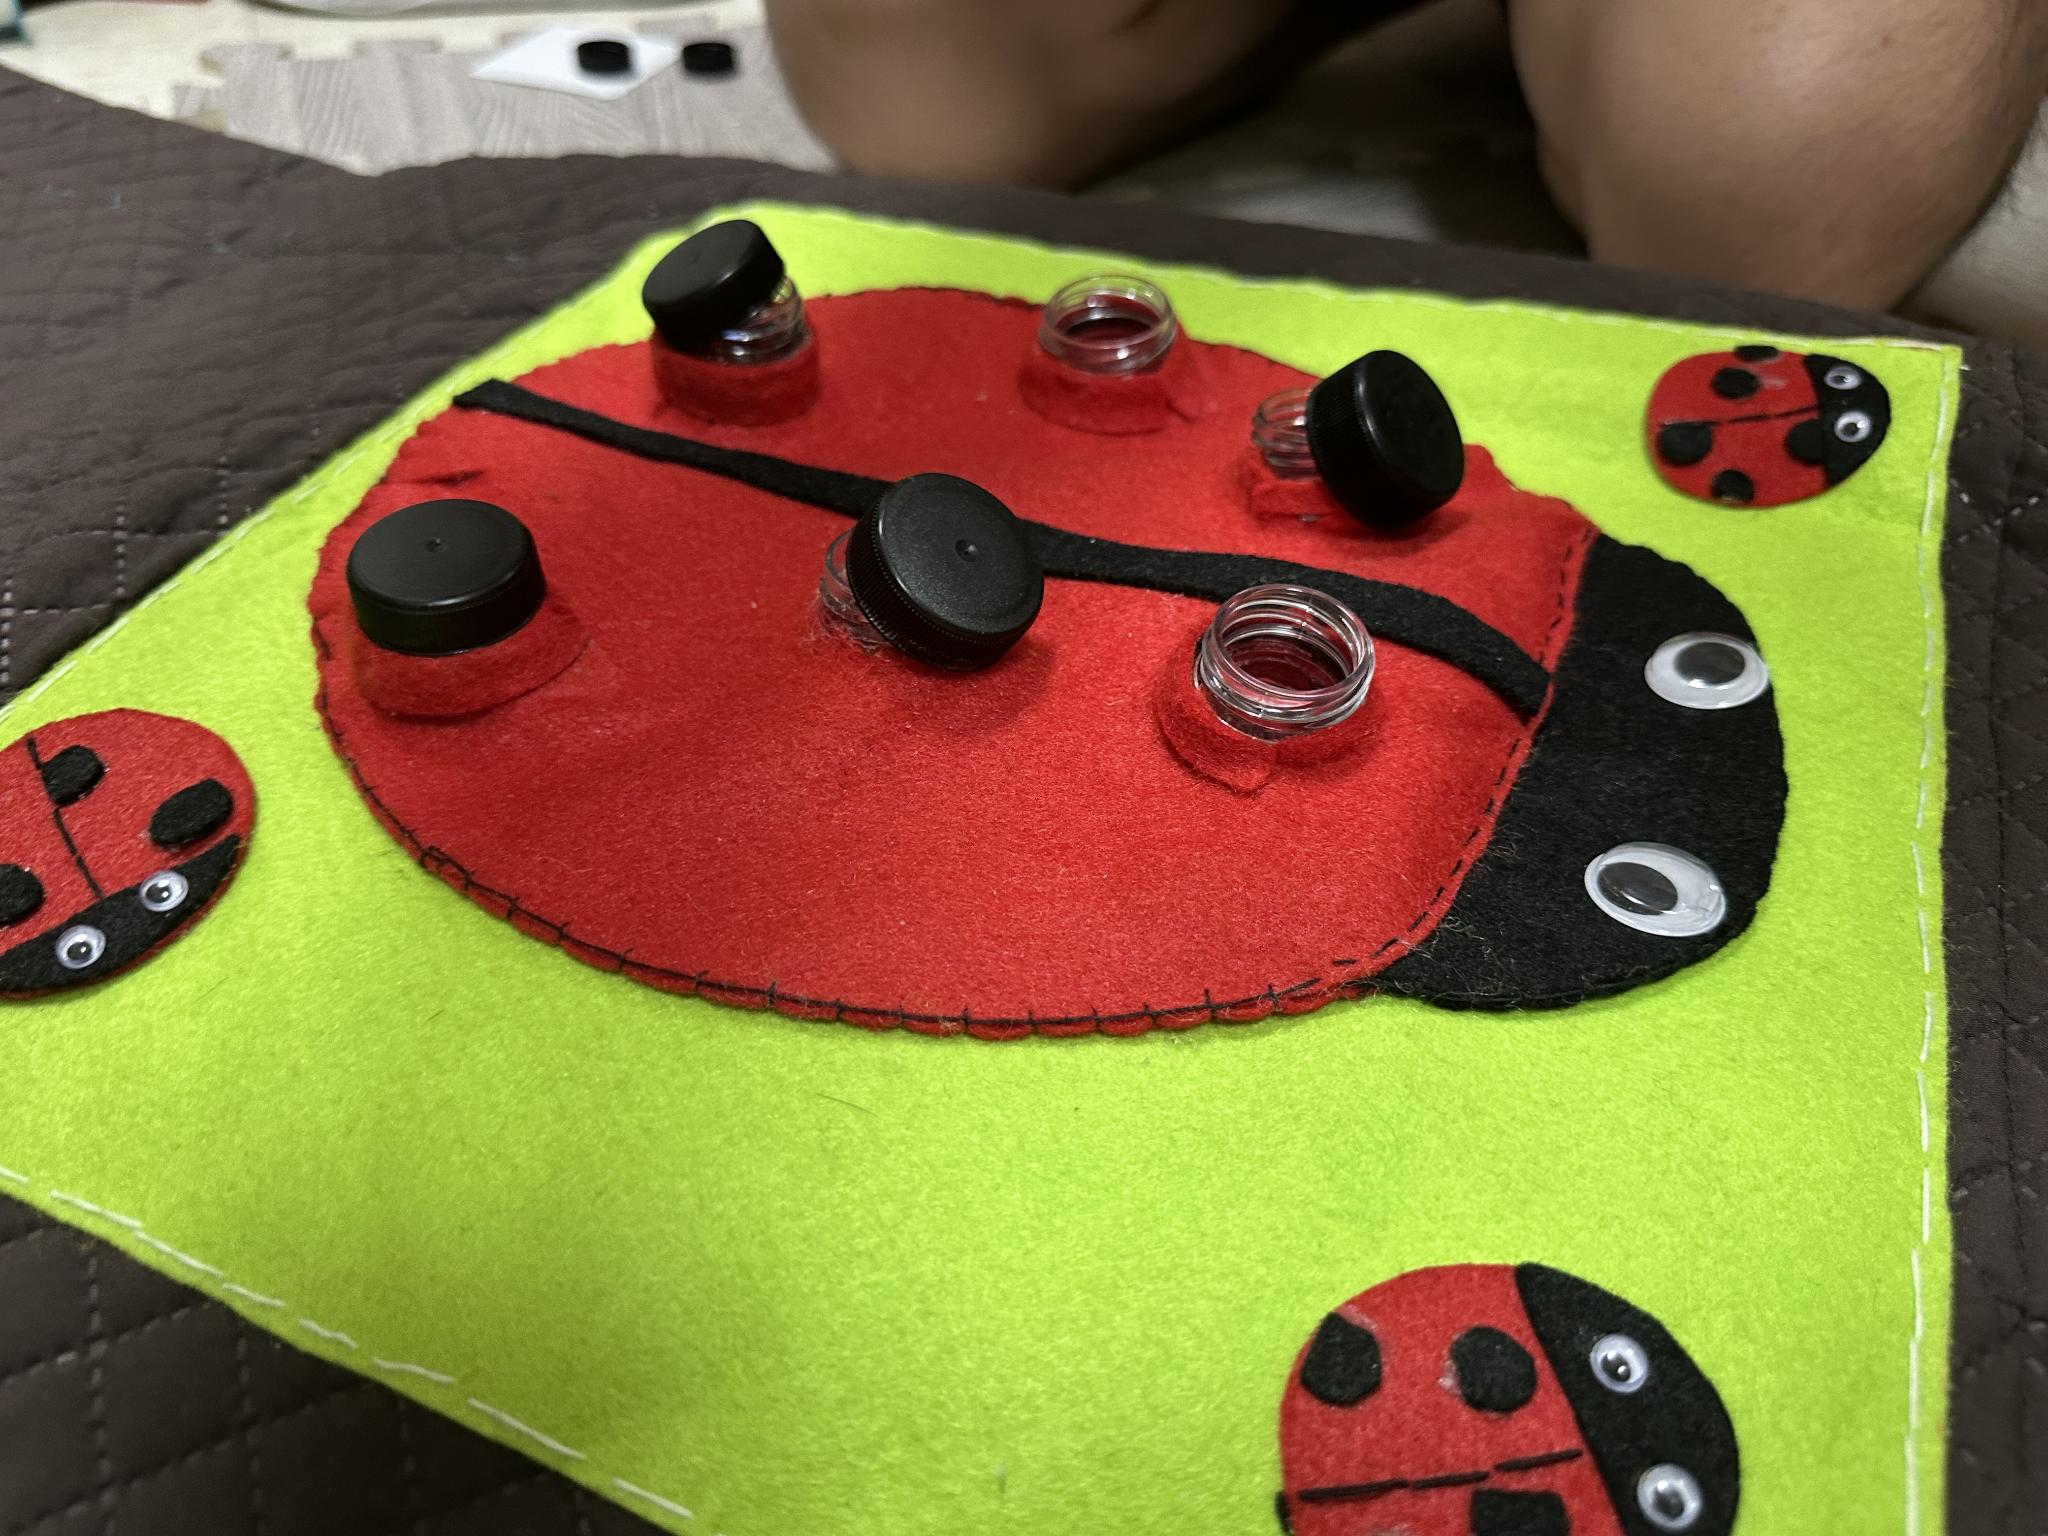cap_ng: (790, 447, 1056, 700), (1229, 339, 1488, 558), (622, 210, 827, 429)
cap_ok: (343, 484, 590, 736)
